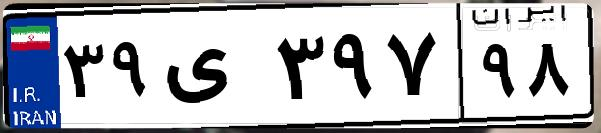3: (270, 28, 330, 110), (57, 26, 110, 100)
7: (385, 28, 445, 110)
8: (525, 38, 570, 115)
9: (330, 28, 385, 110), (475, 38, 525, 113), (110, 28, 158, 98)
ی: (158, 20, 270, 120)
